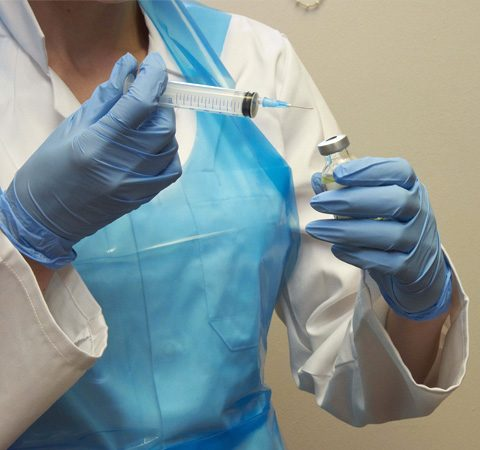Gloves: (2, 51, 188, 263), (302, 152, 461, 323)
